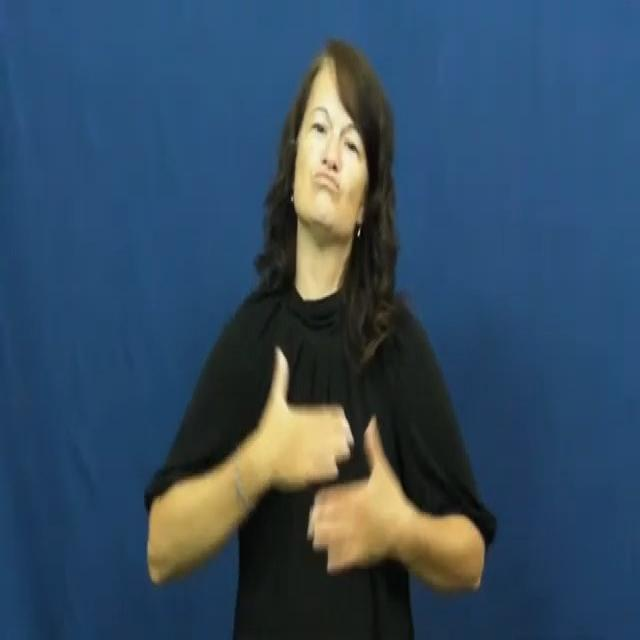enjoy: (236, 330, 409, 594)
